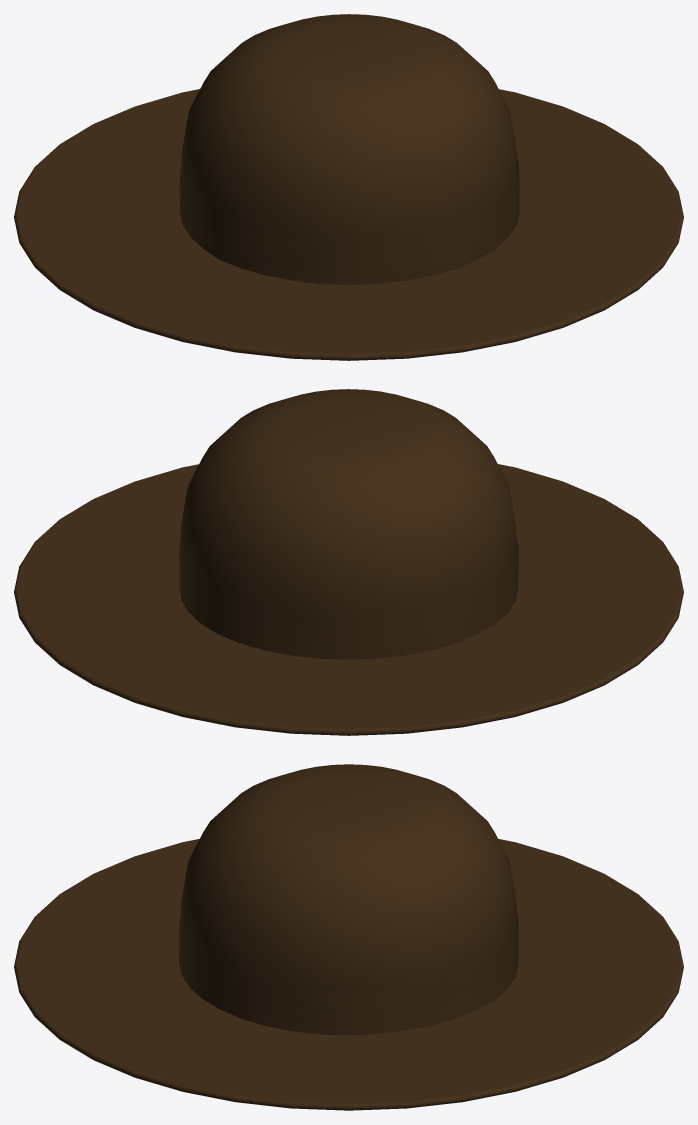
The model's file is straw hat.fbx.
The picture shows the model from 3 angles, top to bottom: view 1: azimuth 30°, elevation 25°; view 2: azimuth 150°, elevation 25°; view 3: azimuth 270°, elevation 25°; orthographic projection.
Parts seen in each view (by area): view 1: Base, Cylinder_1, Red_Cloth; view 2: Base, Cylinder_1, Red_Cloth; view 3: Base, Cylinder_1, Red_Cloth.
Part boxes in pixels (x1,y1,x2,y2): Base: [14, 89, 683, 360]; Cylinder_1: [181, 14, 517, 282]; Red_Cloth: [180, 158, 519, 285]; Base: [14, 464, 683, 735]; Cylinder_1: [180, 389, 516, 659]; Red_Cloth: [179, 539, 519, 659]; Base: [14, 839, 683, 1110]; Cylinder_1: [181, 764, 516, 1031]; Red_Cloth: [179, 914, 518, 1035].
Size of the model in its own units: 1400 by 395 by 1400.
